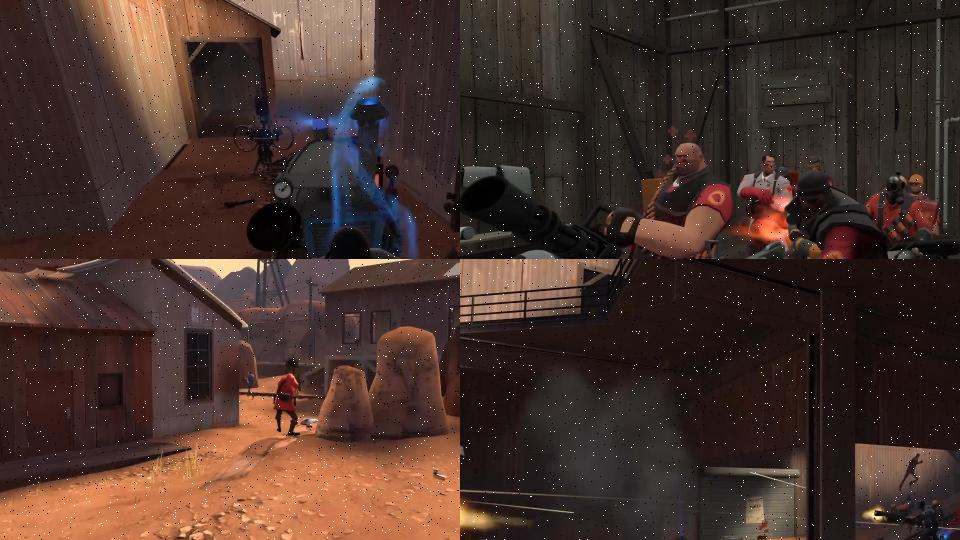Enemy: (460, 138, 776, 259), (742, 160, 958, 259), (861, 164, 957, 259), (738, 153, 794, 236), (269, 358, 307, 439), (906, 496, 952, 540), (442, 153, 460, 259), (873, 493, 914, 525), (897, 451, 924, 492), (906, 172, 930, 198), (243, 368, 259, 405)
